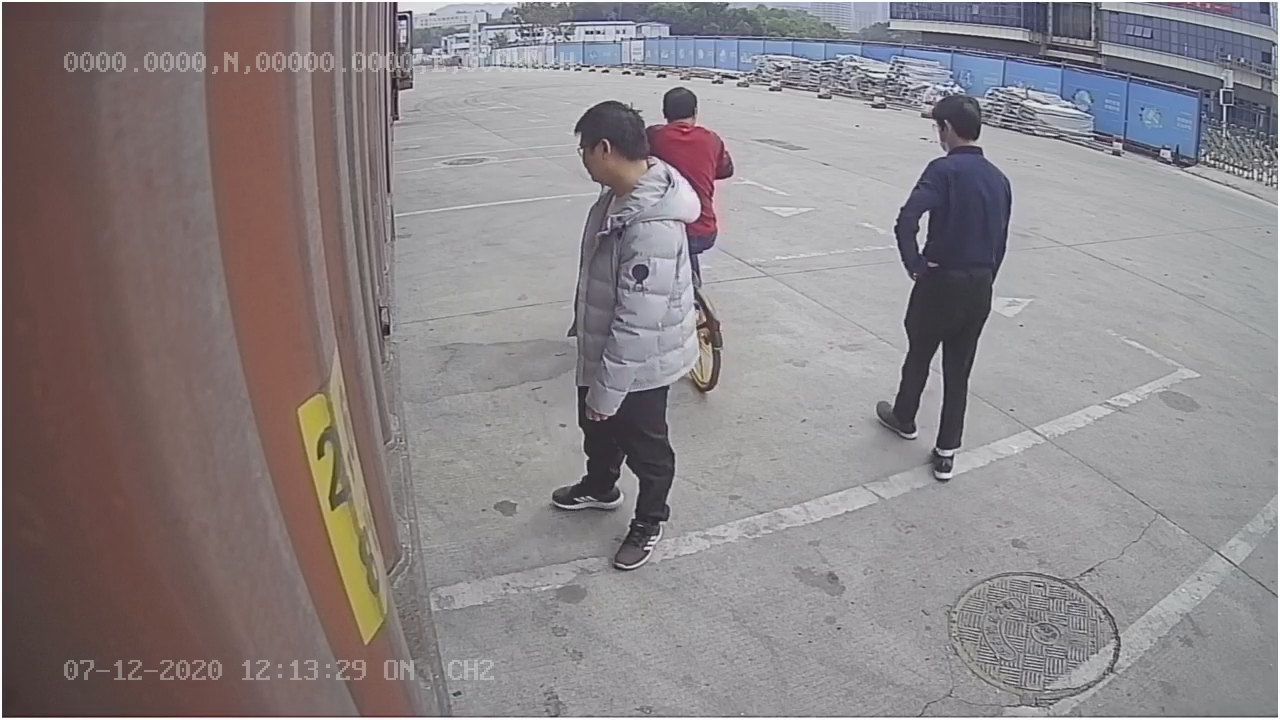person: (874, 84, 1012, 481)
